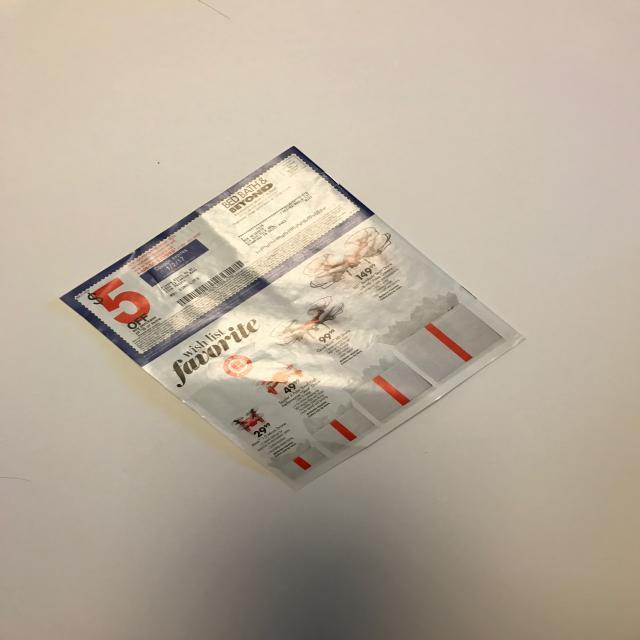paper: (52, 146, 536, 494)
